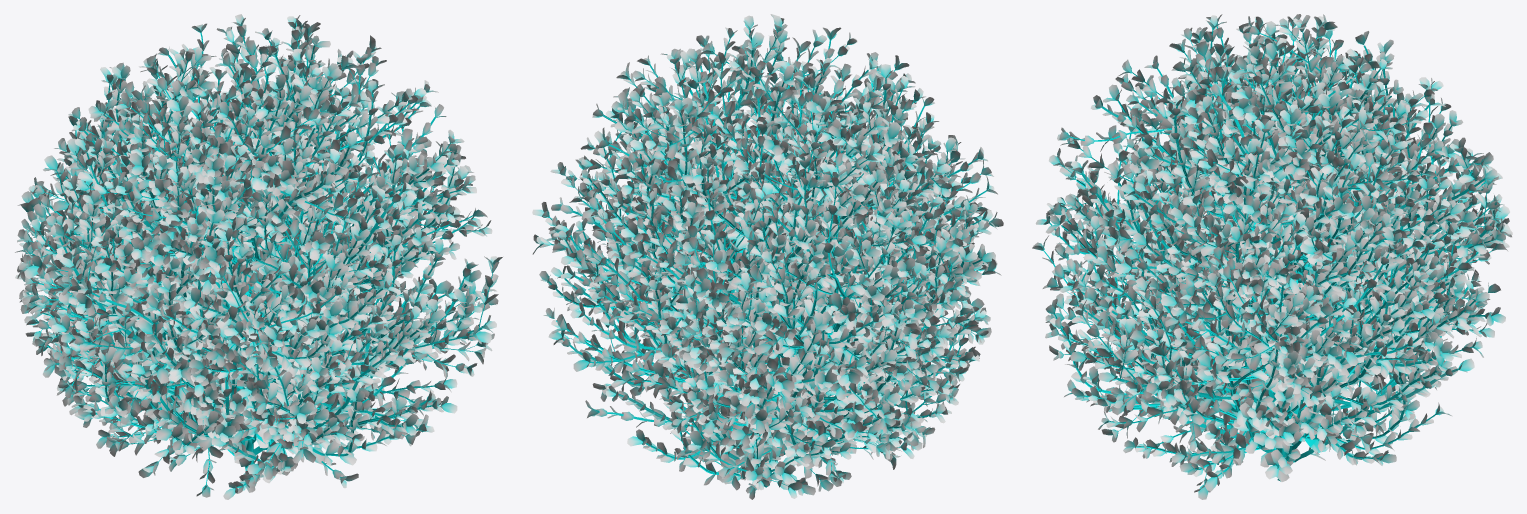
The model's file is Boxwood_wfypfa3ha_Low_wfypfa3ha_VarD_LOD0.fbx.
The picture shows the model from 3 angles, left to right: view 1: azimuth 30°, elevation 25°; view 2: azimuth 150°, elevation 25°; view 3: azimuth 270°, elevation 25°; orthographic projection.
Visible parts, largest first — view 1: _7lol_VarD_LOD2; view 2: _7lol_VarD_LOD2; view 3: _7lol_VarD_LOD2.
Boxes of the visible parts, box(x1,y1,x2,y2) form: _7lol_VarD_LOD2: box(15, 14, 502, 499); _7lol_VarD_LOD2: box(532, 14, 1003, 499); _7lol_VarD_LOD2: box(1032, 14, 1512, 499).
Bounding box in the file's own units: 78.54 × 79.16 × 76.41.
